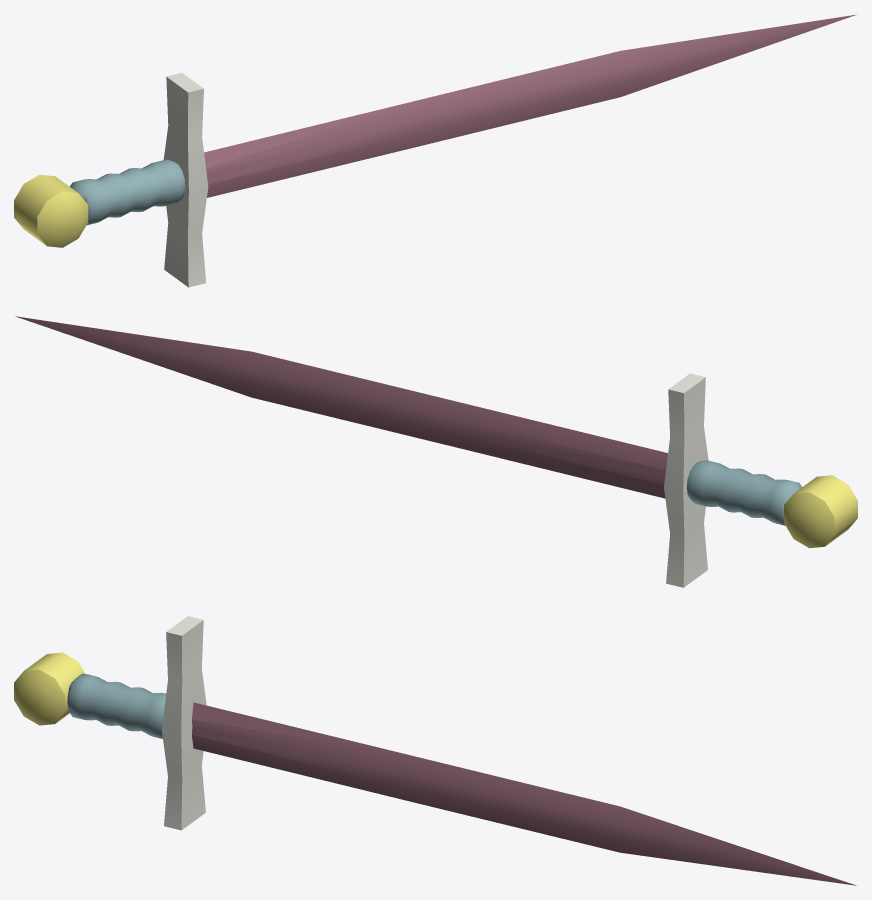
3 views of the same model, one above another, from view 1: azimuth 30°, elevation 25°; view 2: azimuth 150°, elevation 25°; view 3: azimuth 330°, elevation 25° (orthographic).
Parts seen in each view (by area): view 1: Object_8, Object_6, Object_4, Object_10; view 2: Object_8, Object_6, Object_4, Object_10; view 3: Object_8, Object_6, Object_4, Object_10.
Boxes of the visible parts, bbox=[...] form: Object_8: bbox=[204, 14, 856, 197]; Object_6: bbox=[163, 73, 208, 287]; Object_4: bbox=[70, 159, 185, 225]; Object_10: bbox=[14, 174, 88, 247]; Object_8: bbox=[15, 316, 667, 498]; Object_6: bbox=[664, 373, 708, 587]; Object_4: bbox=[686, 460, 801, 525]; Object_10: bbox=[784, 475, 857, 548]; Object_8: bbox=[192, 702, 856, 885]; Object_6: bbox=[162, 616, 206, 830]; Object_4: bbox=[67, 673, 166, 738]; Object_10: bbox=[14, 652, 85, 725].
Bounding box in the file's own units: 1 × 0.2223 × 0.0651.
